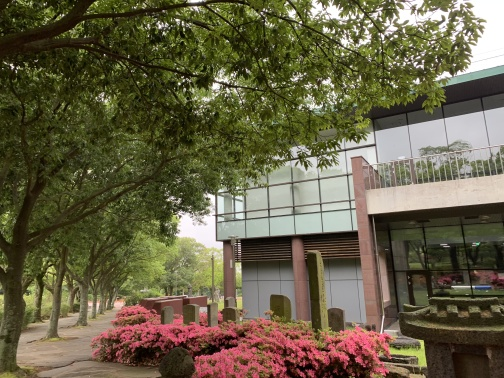Museum: (214, 75, 503, 337)
